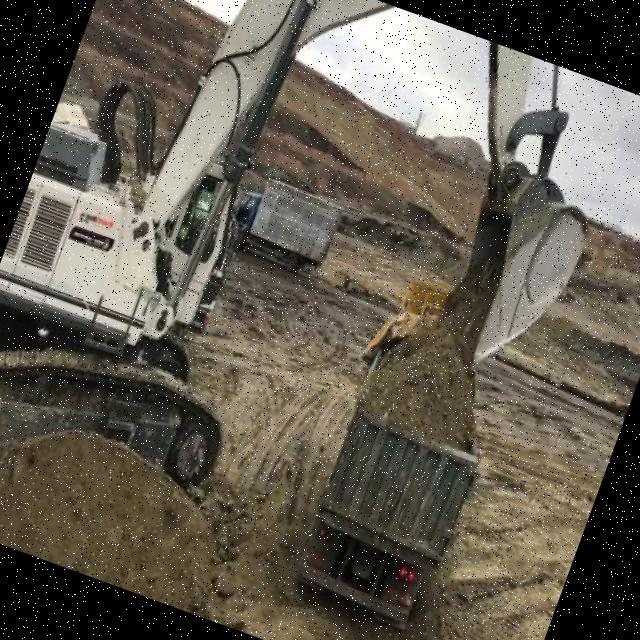Dump Truck: (280, 278, 528, 640), (219, 162, 349, 284)
Excavator: (0, 0, 640, 613)
